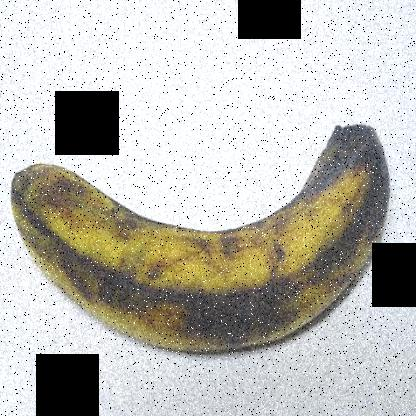overripe: (4, 120, 402, 366)
